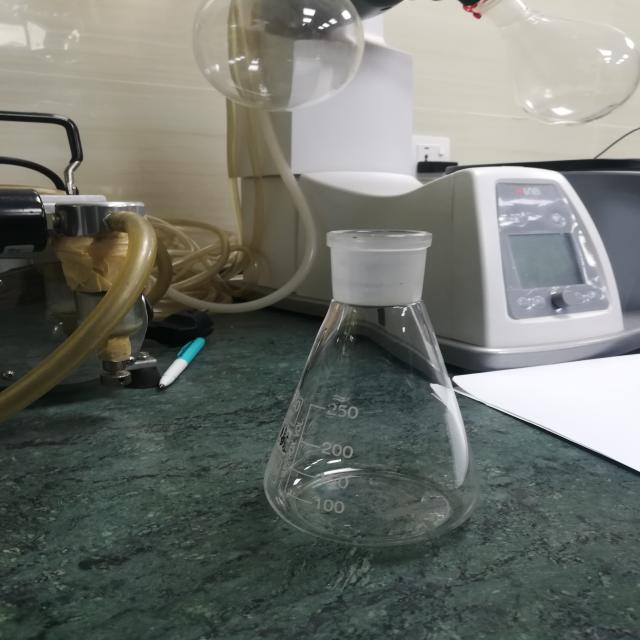Conical_Flask: (226, 187, 538, 568)
